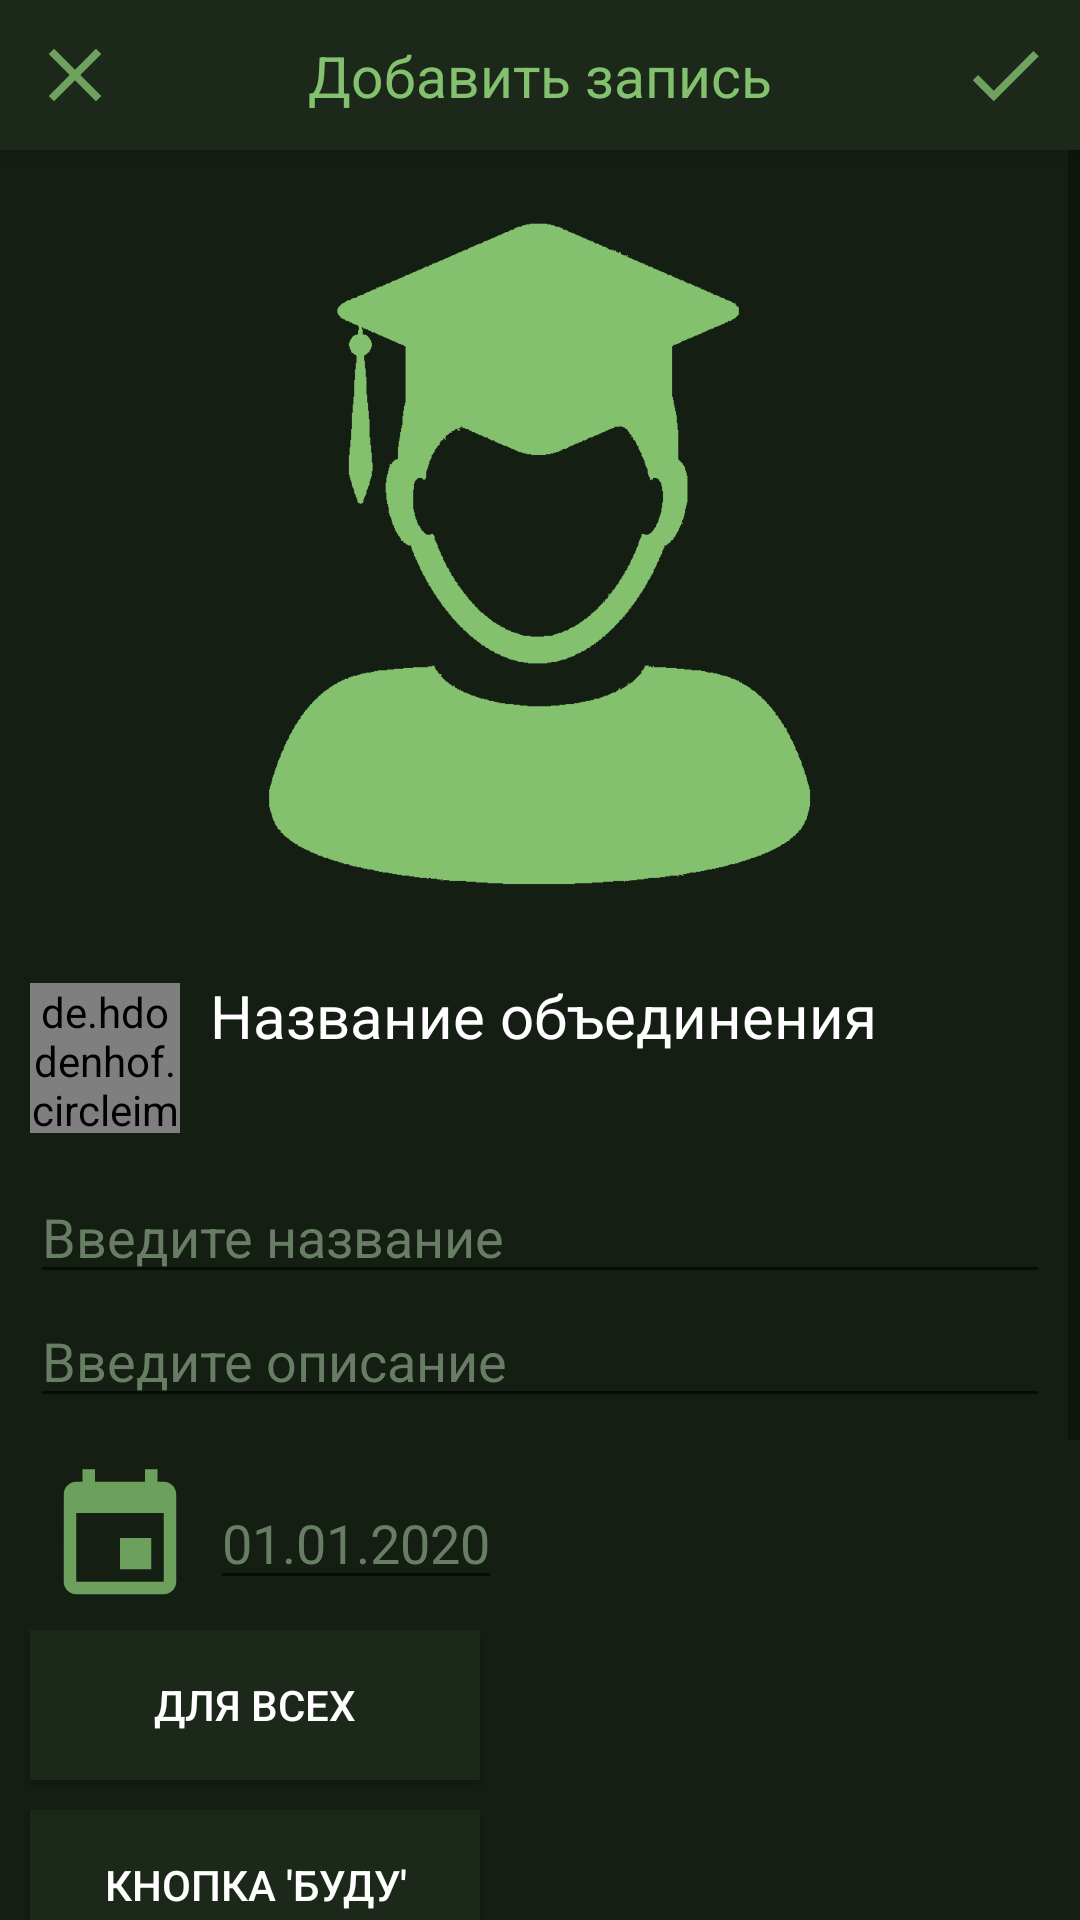

Where icons sit on this 1080px x 1920px app screen, as (x1, y1, x2, y2):
calendar: (63, 1469, 177, 1595)
check: (973, 51, 1039, 101)
close: (49, 49, 101, 101)
